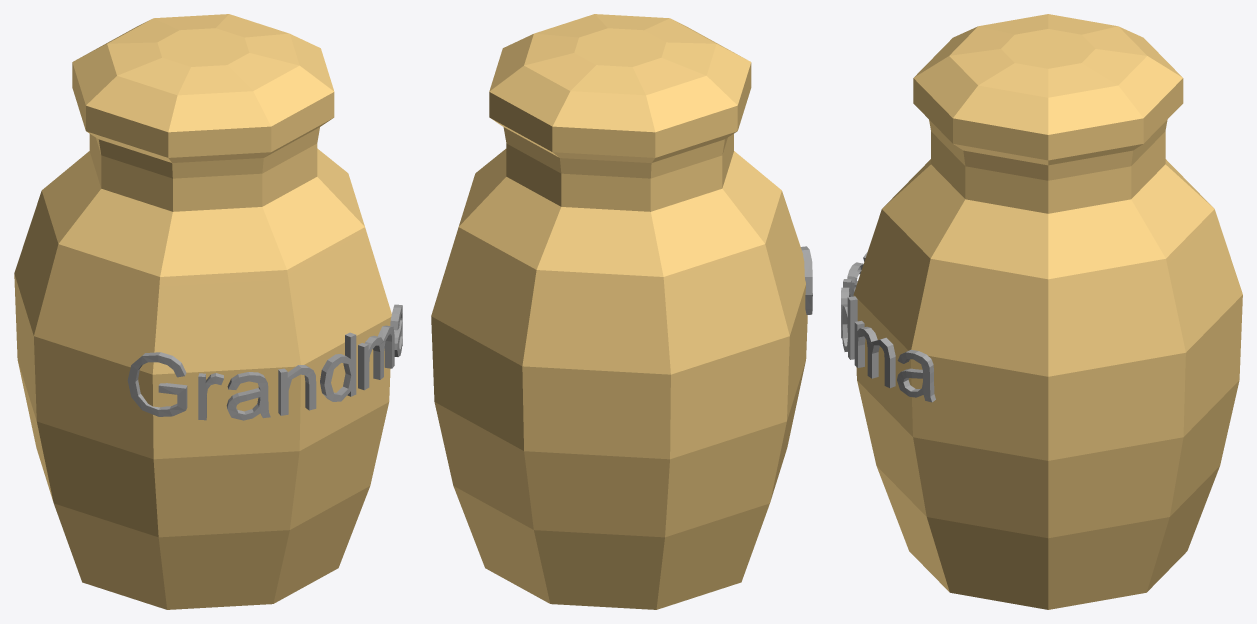
File: GrandmasUrn_UV.fbx
3 renders of one model, left to right at view 1: azimuth 30°, elevation 25°; view 2: azimuth 150°, elevation 25°; view 3: azimuth 270°, elevation 25°, orthographic.
Parts seen in each view (by area): view 1: pCylinder9; view 2: pCylinder9; view 3: pCylinder9.
Boxes of the visible parts, left/top/right/bottom form: pCylinder9: left=14, top=14, right=402, bottom=609; pCylinder9: left=431, top=14, right=812, bottom=609; pCylinder9: left=841, top=14, right=1242, bottom=609.
Size of the model in its own units: 58.17 by 82.81 by 60.05.
